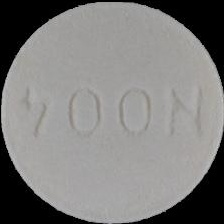16714-082: (0, 0, 224, 224)
